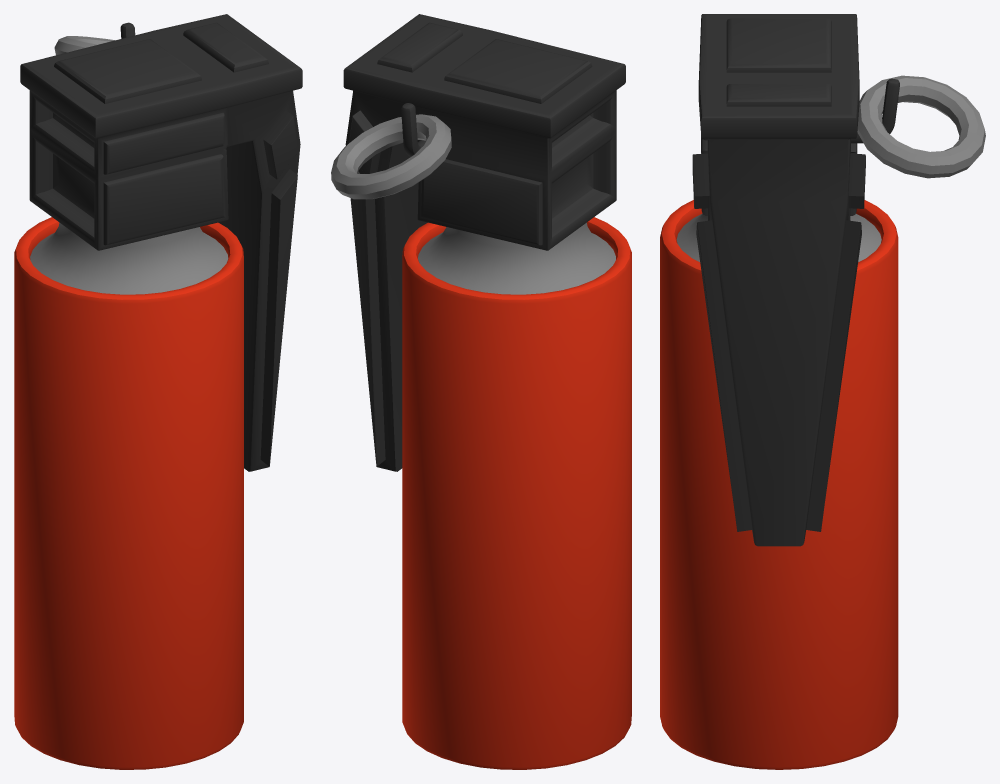
The model's file is incendiary.fbx.
3 renders of one model, left to right at view 1: azimuth 30°, elevation 25°; view 2: azimuth 150°, elevation 25°; view 3: azimuth 270°, elevation 25°, orthographic. The views are drawn at different scales.
Parts seen in each view (by area): view 1: Cylinder; view 2: Cylinder; view 3: Cylinder.
Boxes of the visible parts, <box> form: Cylinder: <box>14,14,302,769</box>; Cylinder: <box>331,14,631,769</box>; Cylinder: <box>660,14,985,769</box>.
Bounding box in the file's own units: 21.31 × 56 × 24.33.
1 material, 1 textured.
